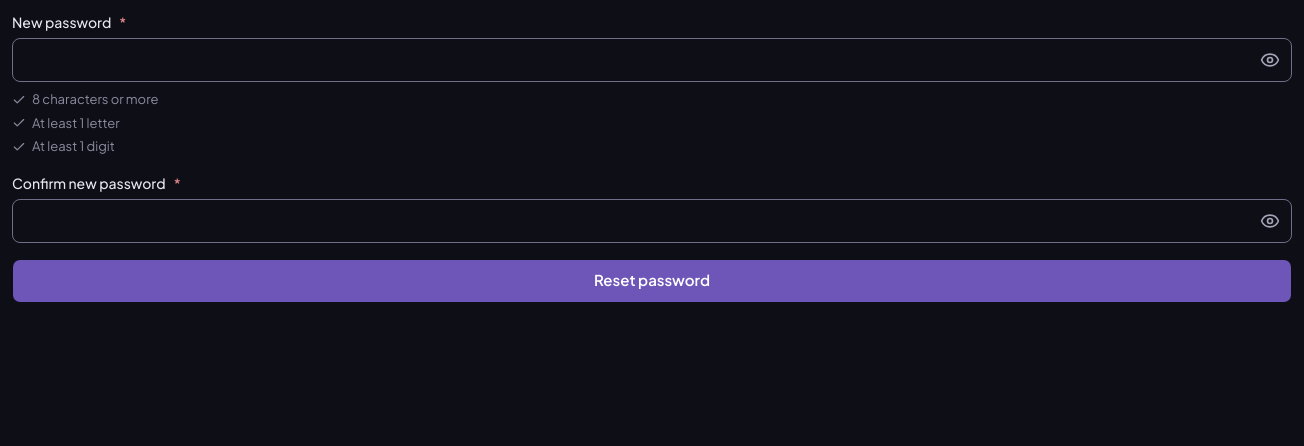
Test case: a confirmation that does not match is refused before anything is sent
In the password field labelled "New password *": x=652, y=60 [12,38,1292,82], type "Journey2027"
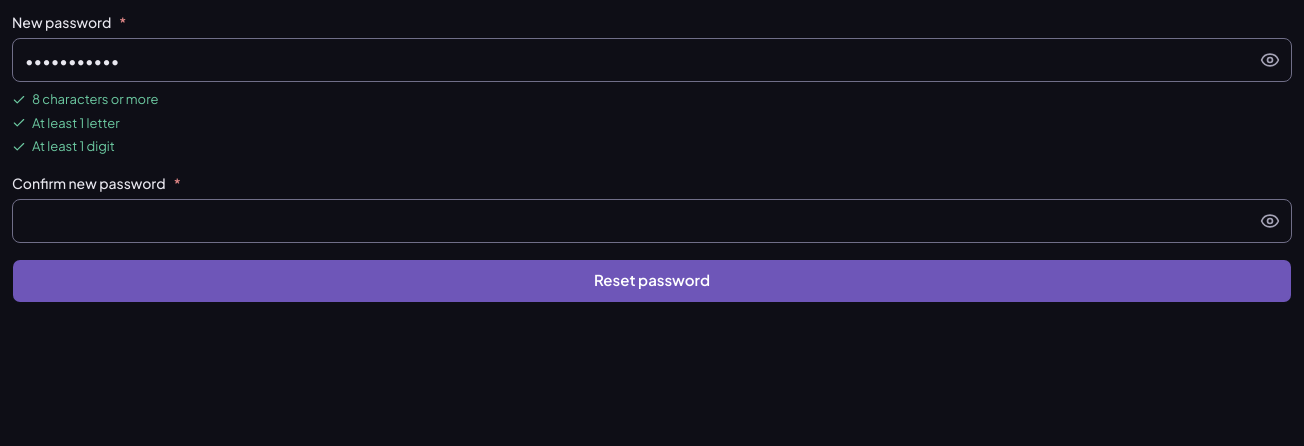
In the password field labelled "Confirm new password *": x=652, y=220 [12,198,1292,242], type "Journey2028"
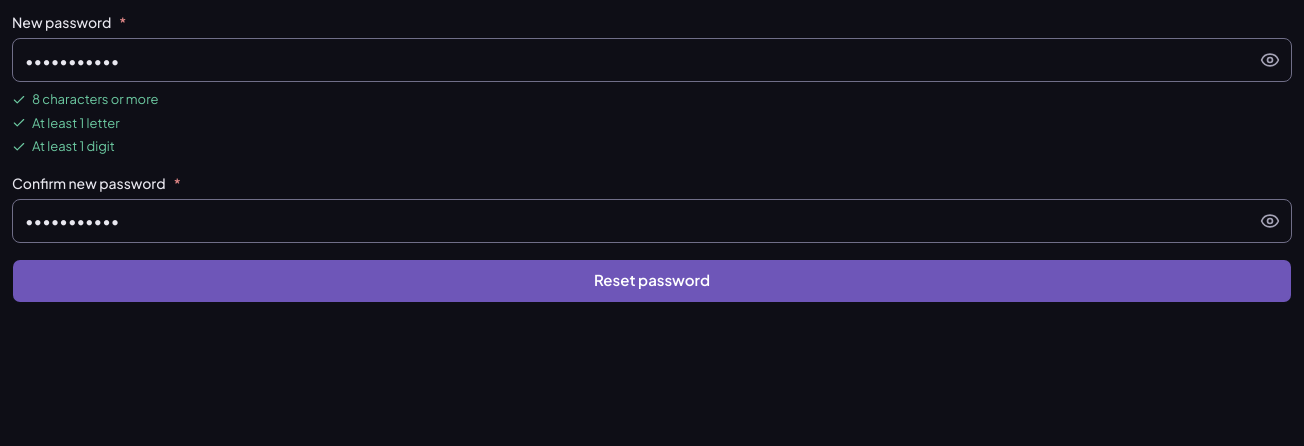
Click the button "Reset password": x=652, y=280 [12,258,1292,302]
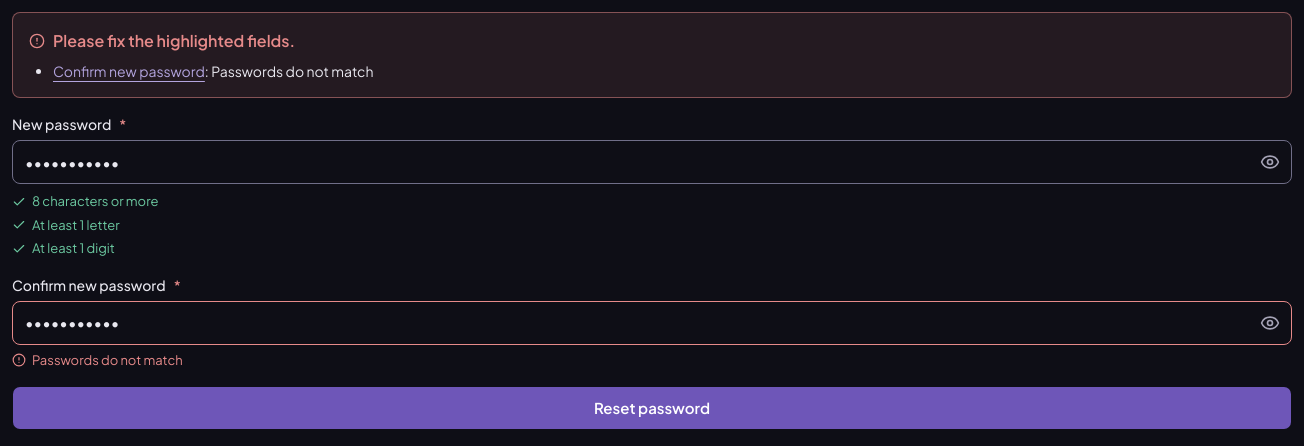
Expected: the text "Passwords do not match" is shown, [12,352,183,368]
